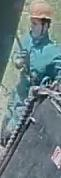helmet: (29, 0, 54, 21)
vest: (15, 32, 61, 93)
